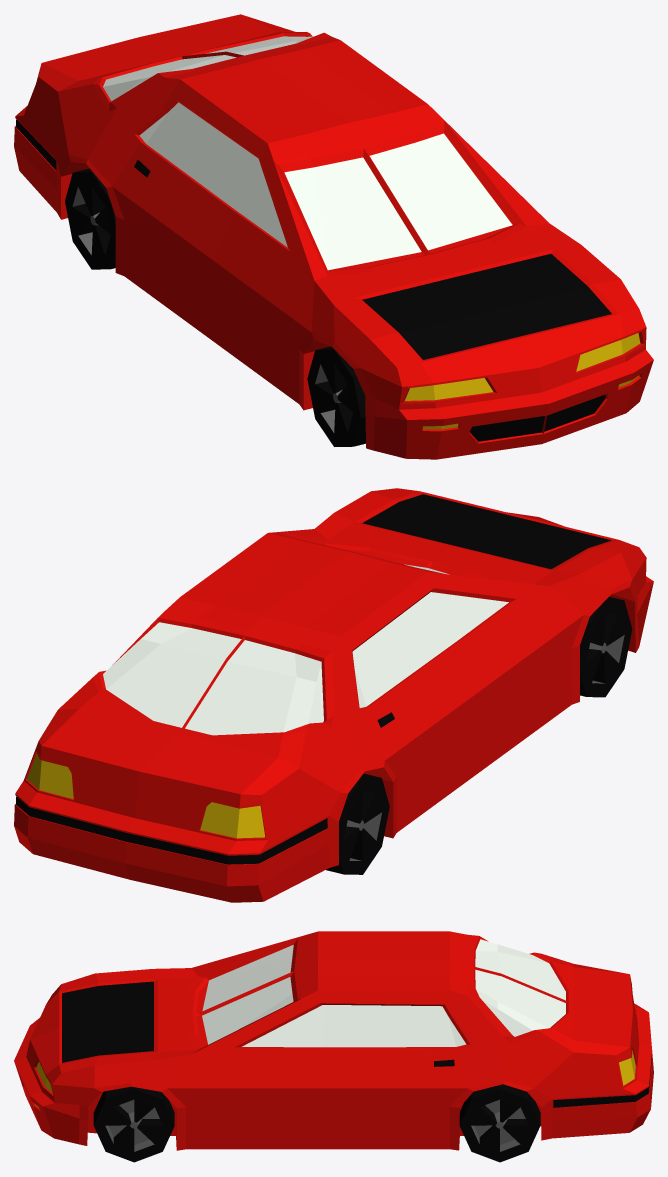
The model's file is COCH4_4.fbx.
3 views of the same model, one above another, from view 1: azimuth 30°, elevation 25°; view 2: azimuth 150°, elevation 25°; view 3: azimuth 270°, elevation 25° (orthographic). The views are drawn at different scales.
Visible parts, largest first — view 1: NPC, Vidrios, Capó, Ruedas, Parachoques, Luces; view 2: NPC, Vidrios, Capó, Ruedas, Luces, Parachoques; view 3: NPC, Vidrios, Ruedas, Capó, Parachoques, Luces.
Boxes of the visible parts, left/top/right/bottom form: NPC: left=14, top=14, right=653, bottom=459; Vidrios: left=103, top=36, right=512, bottom=270; Capó: left=362, top=254, right=611, bottom=359; Ruedas: left=65, top=168, right=365, bottom=446; Parachoques: left=16, top=119, right=605, bottom=441; Luces: left=404, top=333, right=640, bottom=400; NPC: left=14, top=488, right=653, bottom=902; Vidrios: left=103, top=564, right=508, bottom=735; Capó: left=362, top=494, right=611, bottom=569; Ruedas: left=326, top=596, right=632, bottom=874; Luces: left=27, top=753, right=265, bottom=838; Parachoques: left=16, top=796, right=327, bottom=864; NPC: left=14, top=931, right=653, bottom=1150; Vidrios: left=202, top=939, right=565, bottom=1047; Ruedas: left=93, top=1084, right=540, bottom=1162; Capó: left=62, top=981, right=153, bottom=1062; Parachoques: left=553, top=1055, right=651, bottom=1107; Luces: left=36, top=1050, right=635, bottom=1092.
Bounding box in the file's own units: 123 × 85.21 × 325.
